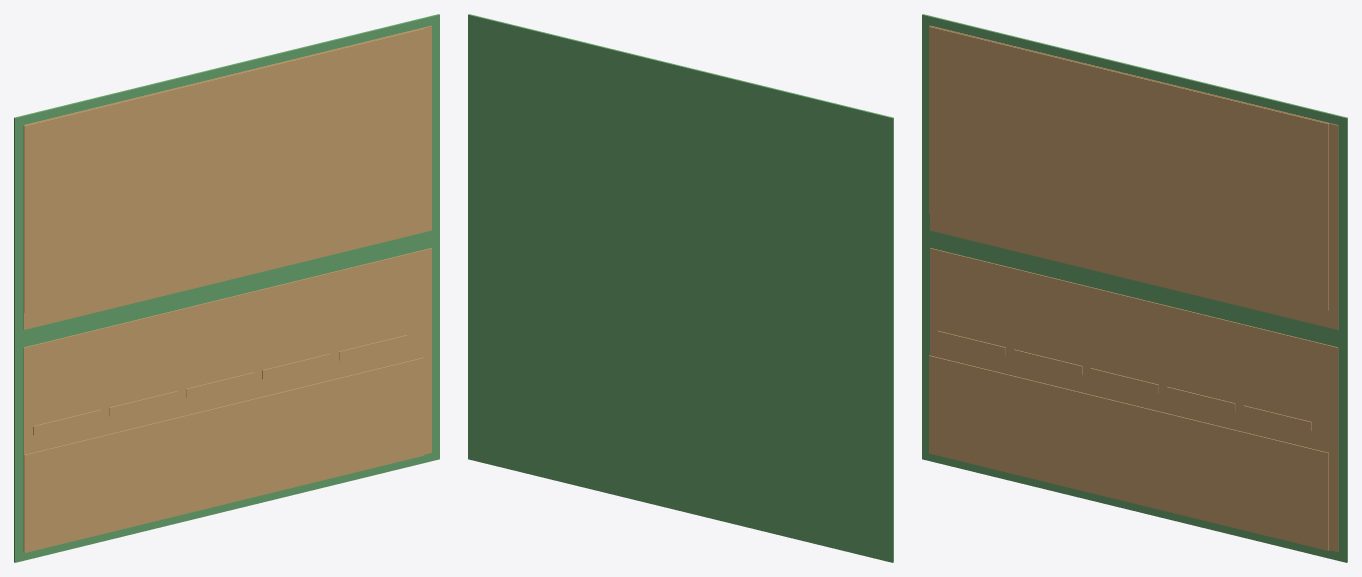
File: board.glb
3 views of the same model, side by side, from view 1: azimuth 30°, elevation 25°; view 2: azimuth 150°, elevation 25°; view 3: azimuth 330°, elevation 25° (orthographic).
Parts seen in each view (by area): view 1: Substrate_Layer_24, Substrate_Layer_1, Substrate_Layer_23, Substrate_Layer_0, Substrate_Layer_2, Substrate_Layer_26, Substrate_Layer_28, Substrate_Layer_25, Substrate_Layer_27, Substrate_Layer_29; view 2: Substrate_Layer_0; view 3: Substrate_Layer_24, Substrate_Layer_1, Substrate_Layer_23, Substrate_Layer_0, Substrate_Layer_2, Substrate_Layer_26, Substrate_Layer_29, Substrate_Layer_25, Substrate_Layer_27, Substrate_Layer_28.
Part boxes in pixels (left/top/right/bottom): Substrate_Layer_24: left=24, top=28, right=424, bottom=312; Substrate_Layer_1: left=23, top=248, right=431, bottom=552; Substrate_Layer_23: left=24, top=357, right=424, bottom=552; Substrate_Layer_0: left=14, top=14, right=439, bottom=562; Substrate_Layer_2: left=23, top=25, right=431, bottom=329; Substrate_Layer_26: left=109, top=391, right=177, bottom=416; Substrate_Layer_28: left=262, top=353, right=330, bottom=379; Substrate_Layer_25: left=33, top=409, right=101, bottom=435; Substrate_Layer_27: left=186, top=372, right=254, bottom=397; Substrate_Layer_29: left=339, top=335, right=407, bottom=360; Substrate_Layer_0: left=468, top=14, right=893, bottom=562; Substrate_Layer_24: left=929, top=26, right=1328, bottom=310; Substrate_Layer_1: left=930, top=248, right=1338, bottom=552; Substrate_Layer_23: left=929, top=355, right=1328, bottom=550; Substrate_Layer_0: left=922, top=14, right=1347, bottom=562; Substrate_Layer_2: left=930, top=25, right=1338, bottom=329; Substrate_Layer_26: left=1014, top=349, right=1082, bottom=375; Substrate_Layer_29: left=1243, top=405, right=1311, bottom=431; Substrate_Layer_25: left=937, top=331, right=1005, bottom=356; Substrate_Layer_27: left=1090, top=368, right=1158, bottom=393; Substrate_Layer_28: left=1167, top=387, right=1235, bottom=412.
Bounding box in the file's own units: 0.05 × 0.05 × 0.0005.
